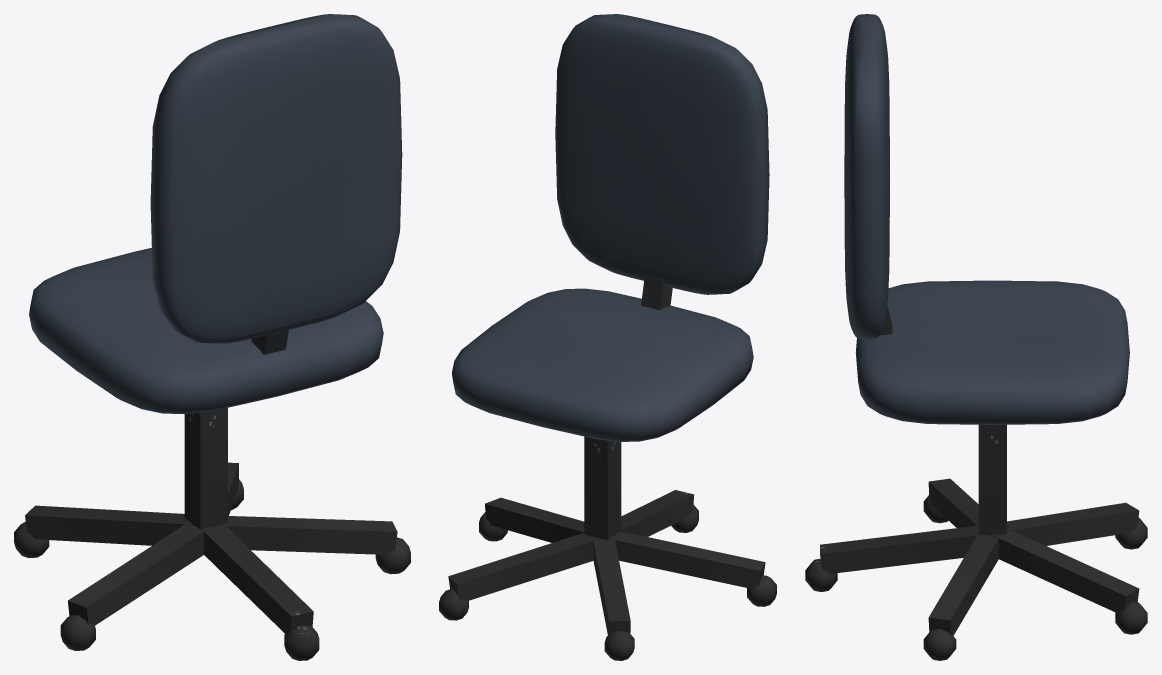
File: office_chair.glb
3 views of the same model, side by side, from view 1: azimuth 30°, elevation 25°; view 2: azimuth 150°, elevation 25°; view 3: azimuth 270°, elevation 25° (orthographic). The views are drawn at different scales.
Visible parts, largest first — view 1: office_chair; view 2: office_chair; view 3: office_chair.
Part boxes in pixels (left/top/right/bottom): office_chair: left=14, top=14, right=410, bottom=660; office_chair: left=439, top=14, right=776, bottom=660; office_chair: left=805, top=14, right=1147, bottom=660.
Size of the model in its own units: 0.6277 by 1.06 by 0.5998.
Materials: 2 (2 with a texture image).
